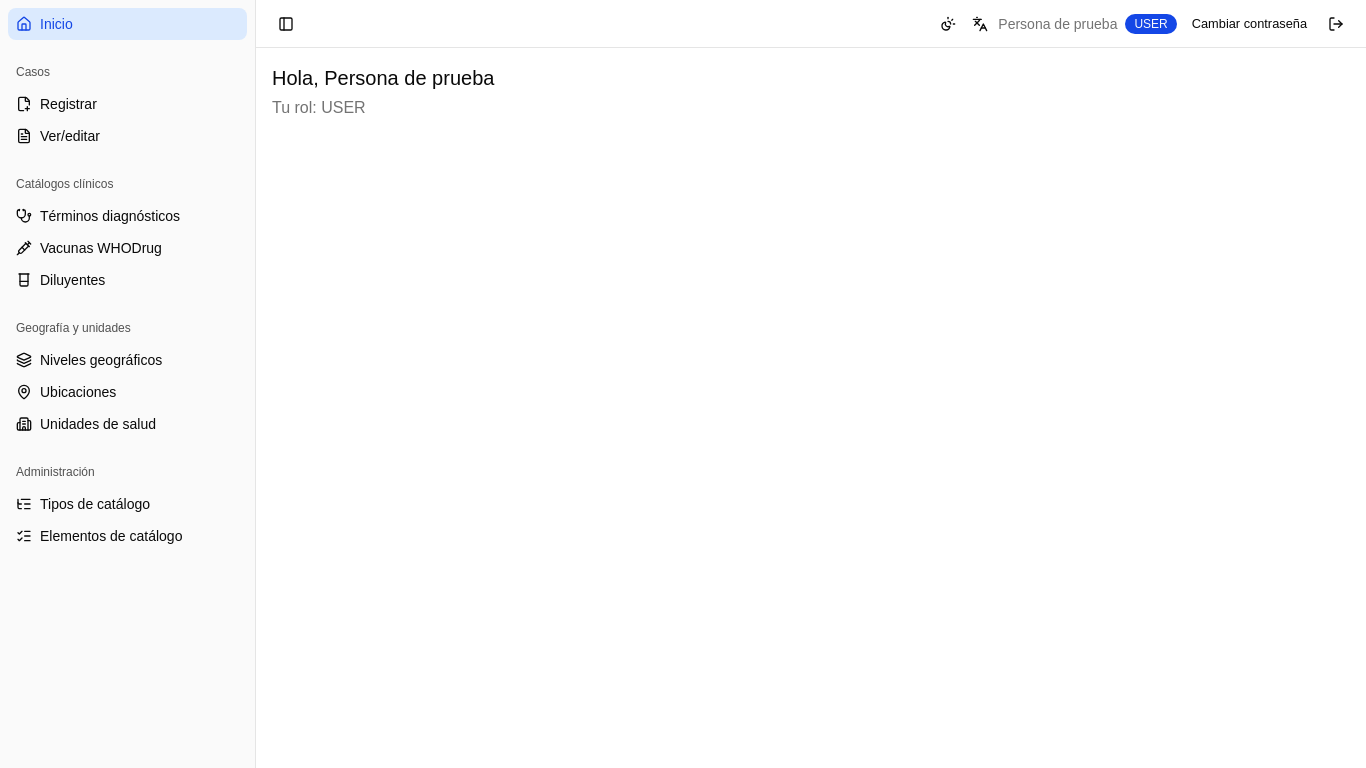
Test case: Ruta /diluents — navegación desde el sidebar › con USER, el ítem es un enlace y lleva a la pantalla de diluyentes
The width and height of the screenshot is (1366, 768).
Click the link "Diluyentes": {"x": 61, "y": 280} x1=16 y1=272 x2=105 y2=288
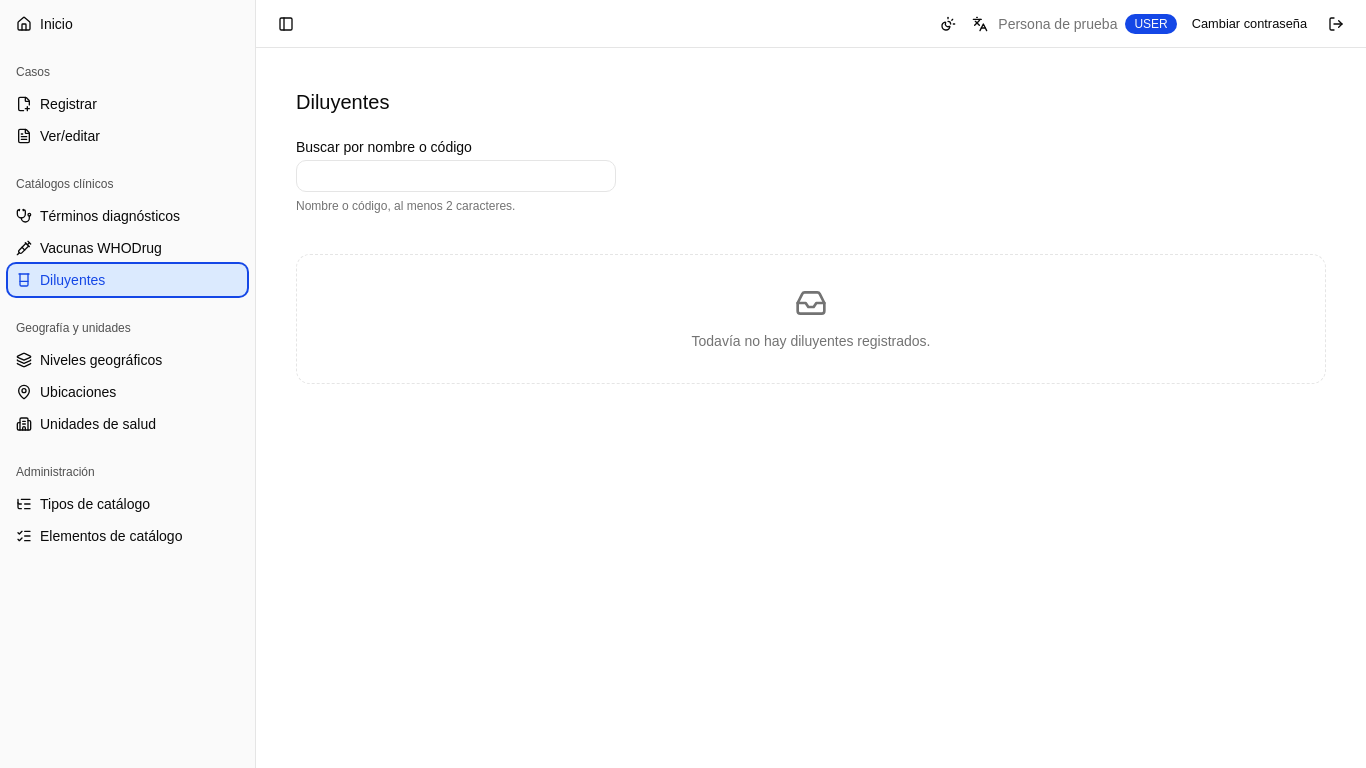
Check: the heading "Diluyentes" is shown, box x1=296 y1=91 x2=389 y2=113
